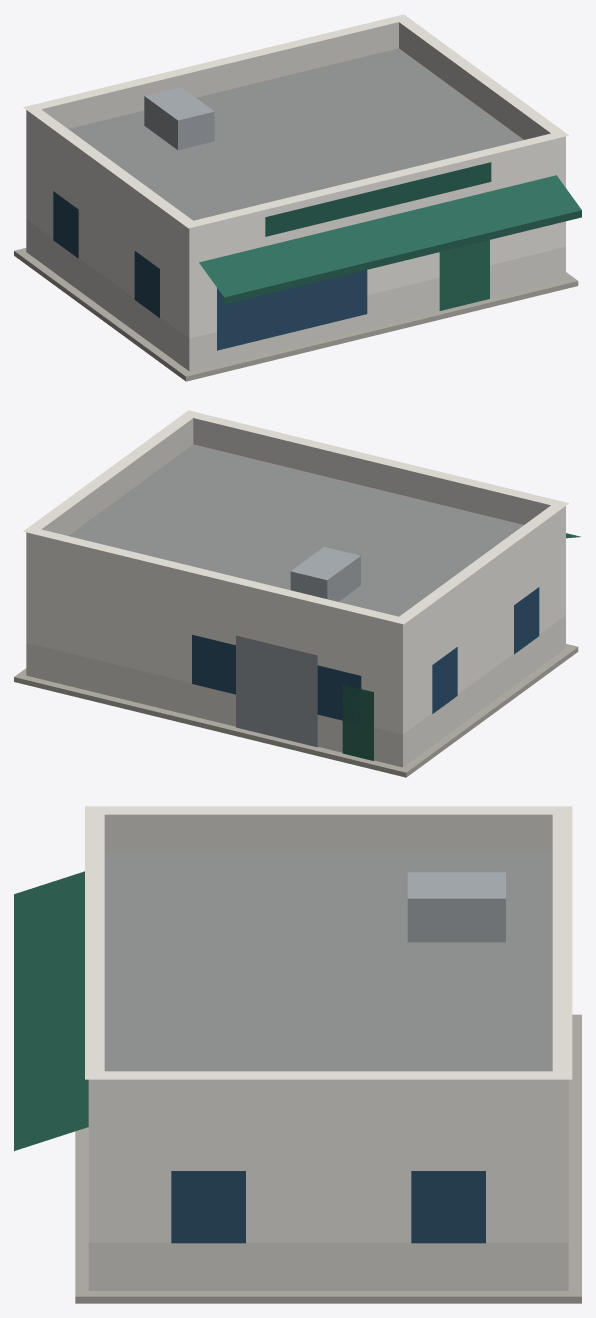
The model's file is store_12x9_lod1.glb.
3 renders of one model, top to bottom at view 1: azimuth 30°, elevation 25°; view 2: azimuth 150°, elevation 25°; view 3: azimuth 270°, elevation 25°, orthographic. The views are drawn at different scales.
Visible parts, largest first — view 1: block; view 2: block; view 3: block.
Part boxes in pixels (x1,y1,x2,y2): block: [14, 14, 581, 381]; block: [14, 410, 580, 777]; block: [14, 806, 581, 1303].
Size of the model in its own units: 12.5 by 4.66 by 10.65.
